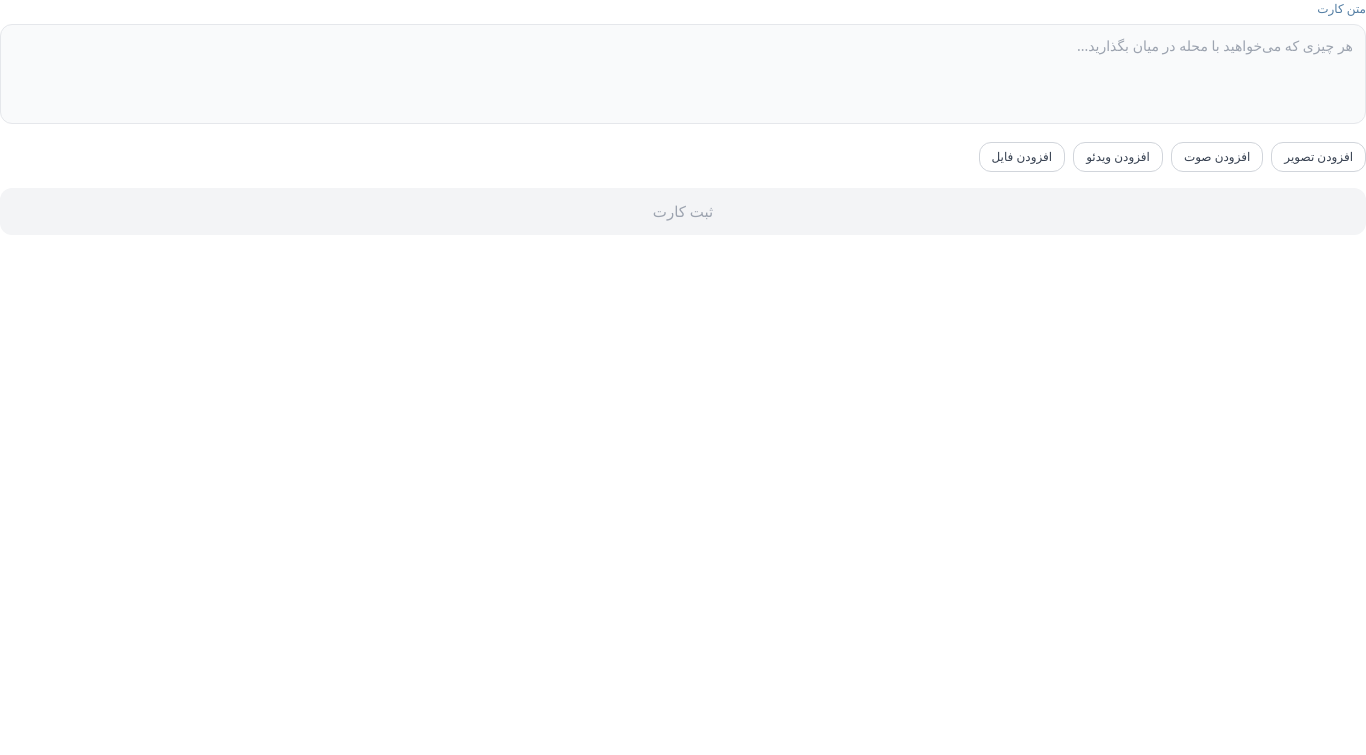
Test: the suggestion is an offer, not a step › shows the preview when asked, and applies nothing on its own
This screenshot has width=1366, height=755.
Type "یک نردبان دارم که قرض می‌دهم" into the text box labelled "متن کارت".
click(683, 74); type("یک نردبان دارم که قرض می‌دهم")  # box [0, 24, 1365, 124]
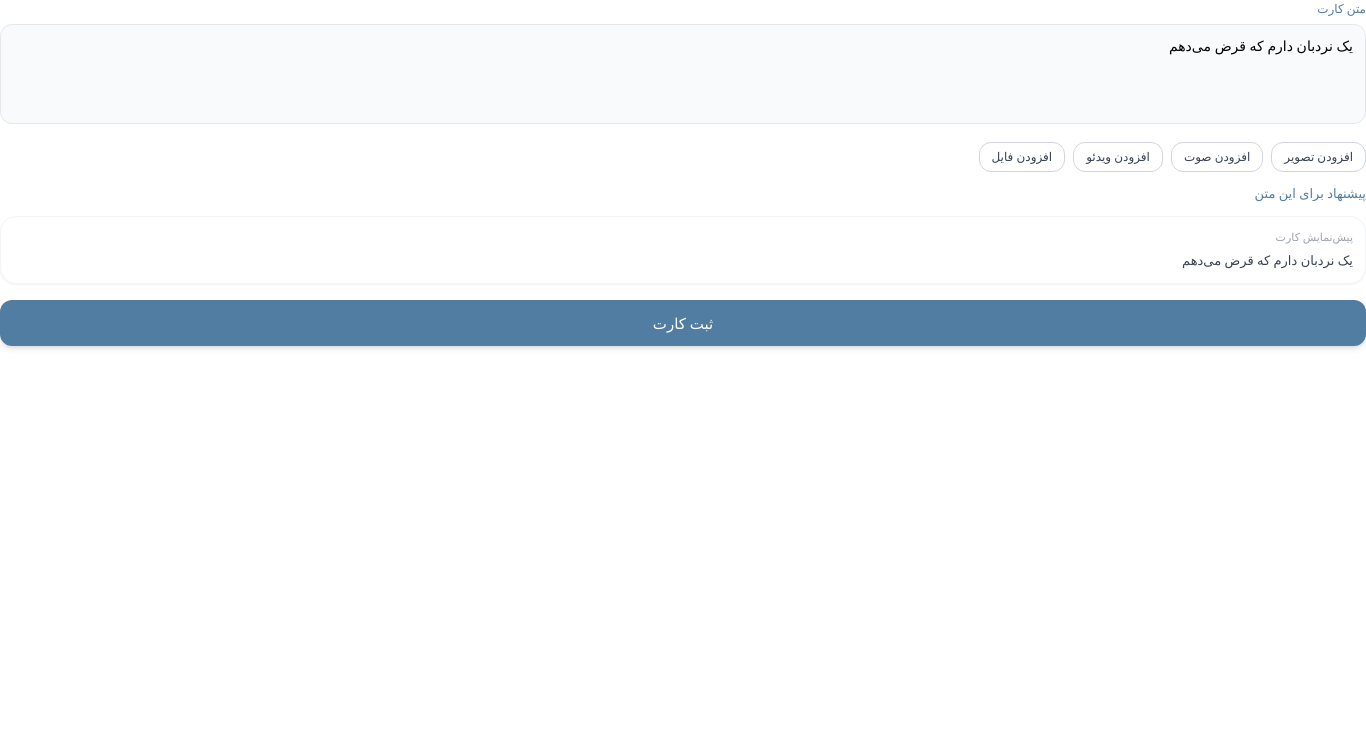
Click the button "پیشنهاد برای این متن".
click(1310, 194)  # box [1255, 184, 1365, 204]
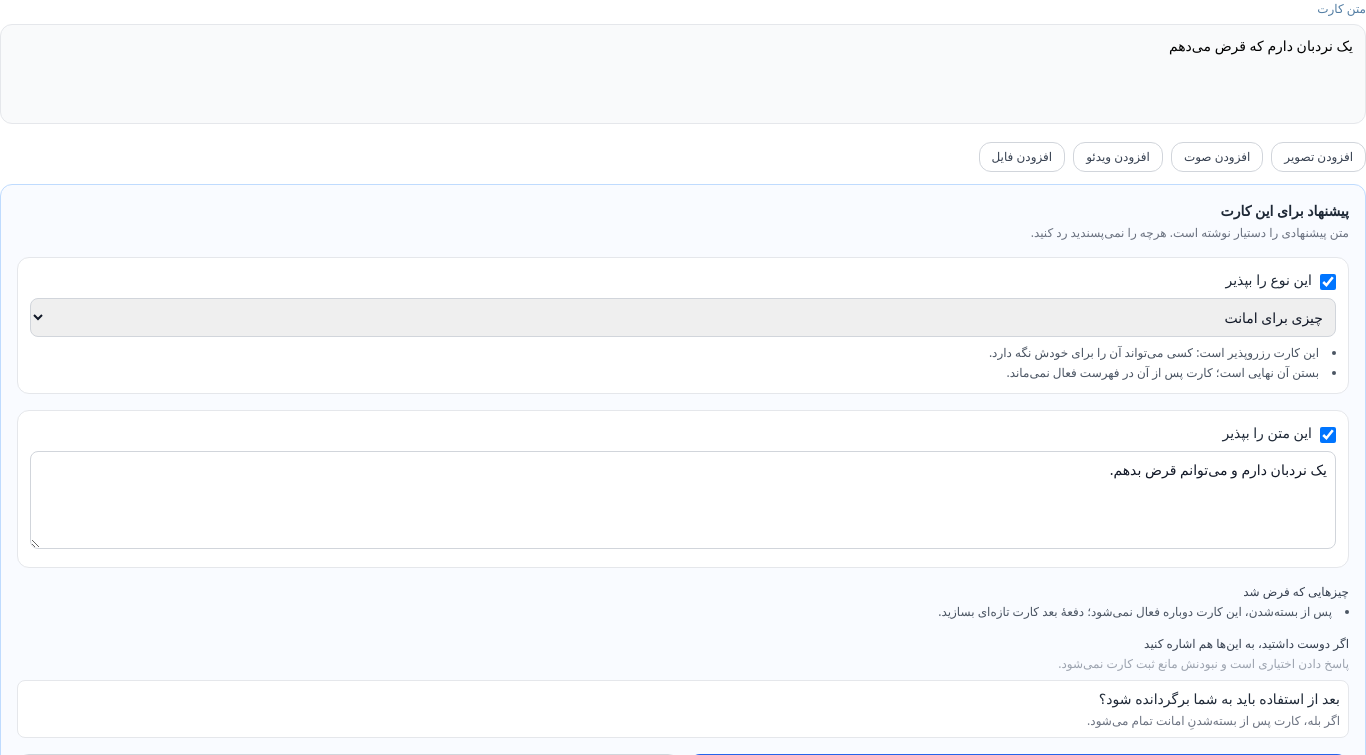
Expected: the heading "پیشنهاد برای این کارت" is shown, [1220, 201, 1349, 220]
